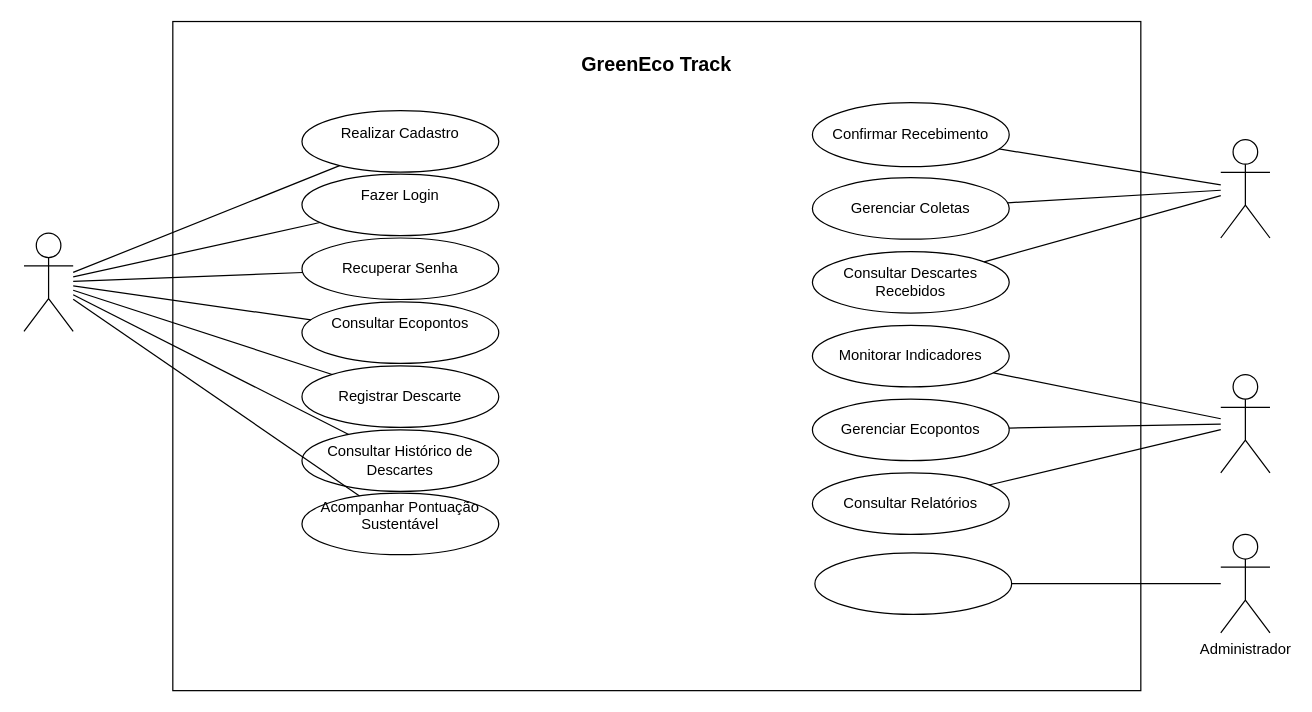
This 1312x712 diagram has some shape labels left out. The shapes that lost their labels are listed below. From the top down, each one's centre as x and y in pixels, then its label:
At (x=1245, y=188): "Cooperativa".
At (x=48, y=281): "Cidadão".
At (x=1245, y=423): "Prefeitura".
At (x=913, y=583): "Gerenciar Usuários".
